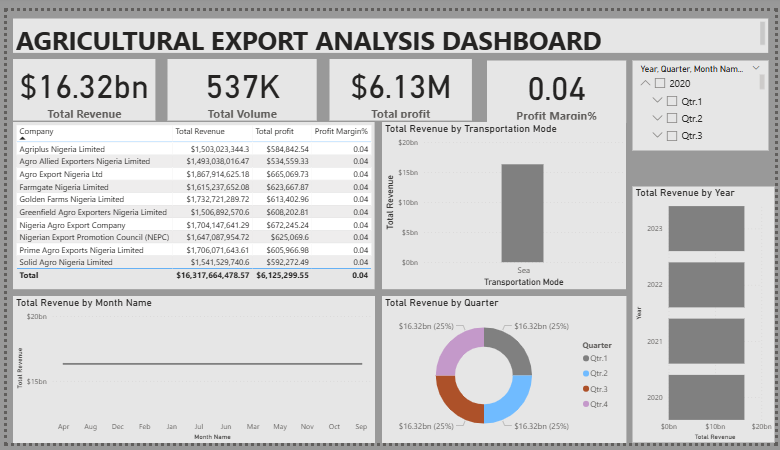

This screenshot's page, from the dashboard's own definition file:
{"tool":"powerbi","page":{"name":"Agricultural Export Analysis Dashboard","canvas":[1280,720],"ordinal":1},"visuals":[{"type":"textbox","box":[10,12.9,1258.6,57.1],"z":0},{"type":"card","fields":{"Values":["Nigeria_agricultural_exports.Total Revenue"]},"box":[10,80,237.1,102.9],"z":1},{"type":"card","fields":{"Values":["Nigeria_agricultural_exports.Total Volume"]},"box":[268.6,80,248.6,102.9],"z":2},{"type":"card","fields":{"Values":["Nigeria_agricultural_exports.Total profit"]},"box":[538.6,80,237.1,102.9],"z":3},{"type":"card","fields":{"Values":["Nigeria_agricultural_exports.Profit Margin%"]},"box":[800,81.7,231.7,103.3],"z":4},{"type":"clusteredColumnChart","fields":{"Category":["Nigeria_agricultural_exports.Transportation Mode"],"Y":["Nigeria_agricultural_exports.Total Revenue"]},"box":[625,185,406.7,278.3],"z":5},{"type":"tableEx","fields":{"Values":["Nigeria_agricultural_exports.Company","Nigeria_agricultural_exports.Total Revenue","Nigeria_agricultural_exports.Total profit","Nigeria_agricultural_exports.Profit Margin%"]},"box":[10,184.3,602.9,278.6],"z":6},{"type":"lineChart","fields":{"Category":["DimDate Nigeria_agricultural_exports.Month Name"],"Y":["Nigeria_agricultural_exports.Total Revenue"]},"box":[10,475,603.3,245],"z":7},{"type":"barChart","fields":{"Y":["Nigeria_agricultural_exports.Total Revenue"],"Category":["DimDate Nigeria_agricultural_exports.Year"]},"box":[1043.3,293.3,236.7,426.7],"z":8},{"type":"donutChart","fields":{"Y":["Nigeria_agricultural_exports.Total Revenue"],"Category":["DimDate Nigeria_agricultural_exports.Quarter"]},"box":[625,475,407,245],"z":9},{"type":"slicer","fields":{"Values":["DimDate Nigeria_agricultural_exports.Year","DimDate Nigeria_agricultural_exports.Quarter","DimDate Nigeria_agricultural_exports.Month Name","DimDate Nigeria_agricultural_exports.Day Name"]},"box":[1043.3,81.7,225,150],"z":10}]}

Visuals, with their boxes in screenshot pixels (x1, y1, x2, y2), scaled from the page's 1280x720 canvas onto the 780x450 screenshot:
textbox: rect(6, 8, 773, 44)
card - Nigeria_agricultural_exports.Total Revenue: rect(6, 50, 151, 114)
card - Nigeria_agricultural_exports.Total Volume: rect(164, 50, 315, 114)
card - Nigeria_agricultural_exports.Total profit: rect(328, 50, 473, 114)
card - Nigeria_agricultural_exports.Profit Margin%: rect(488, 51, 629, 116)
clusteredColumnChart - Nigeria_agricultural_exports.Transportation Mode x Nigeria_agricultural_exports.Total Revenue: rect(381, 116, 629, 290)
tableEx - Nigeria_agricultural_exports.Company x Nigeria_agricultural_exports.Total Revenue: rect(6, 115, 373, 289)
lineChart - DimDate Nigeria_agricultural_exports.Month Name x Nigeria_agricultural_exports.Total Revenue: rect(6, 297, 374, 449)
barChart - Nigeria_agricultural_exports.Total Revenue x DimDate Nigeria_agricultural_exports.Year: rect(636, 183, 779, 449)
donutChart - Nigeria_agricultural_exports.Total Revenue x DimDate Nigeria_agricultural_exports.Quarter: rect(381, 297, 629, 449)
slicer - DimDate Nigeria_agricultural_exports.Year x DimDate Nigeria_agricultural_exports.Quarter: rect(636, 51, 773, 145)
